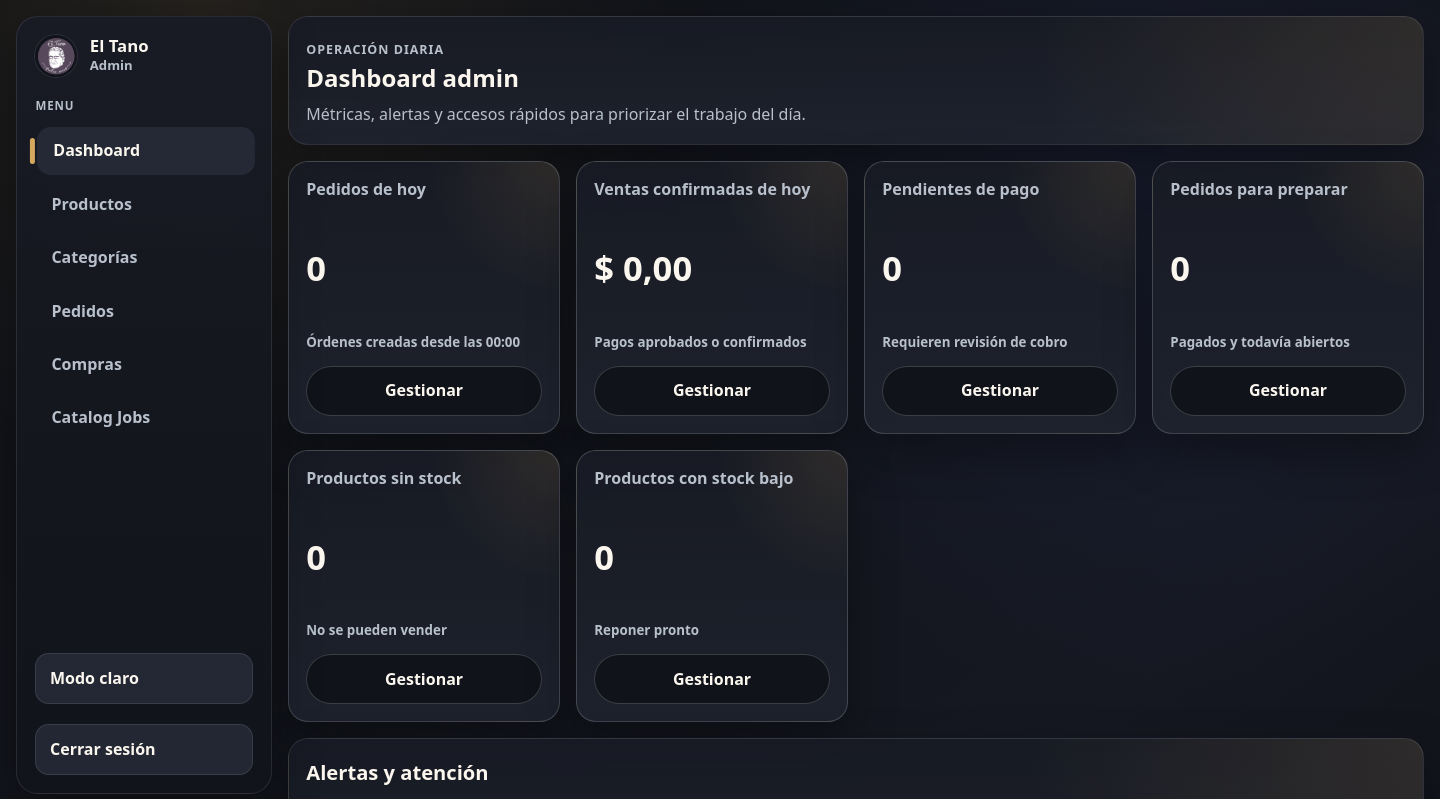
Test: AppRoutes admin nested routes › defaults the admin shell to dark mode and lets admins switch to light mode
The image size is (1440, 799).
Check: the heading "Dashboard admin" is shown, box [306,61,519,94]
Step 1. Click the button "Modo claro" → (144, 678), box [35,653,253,704]
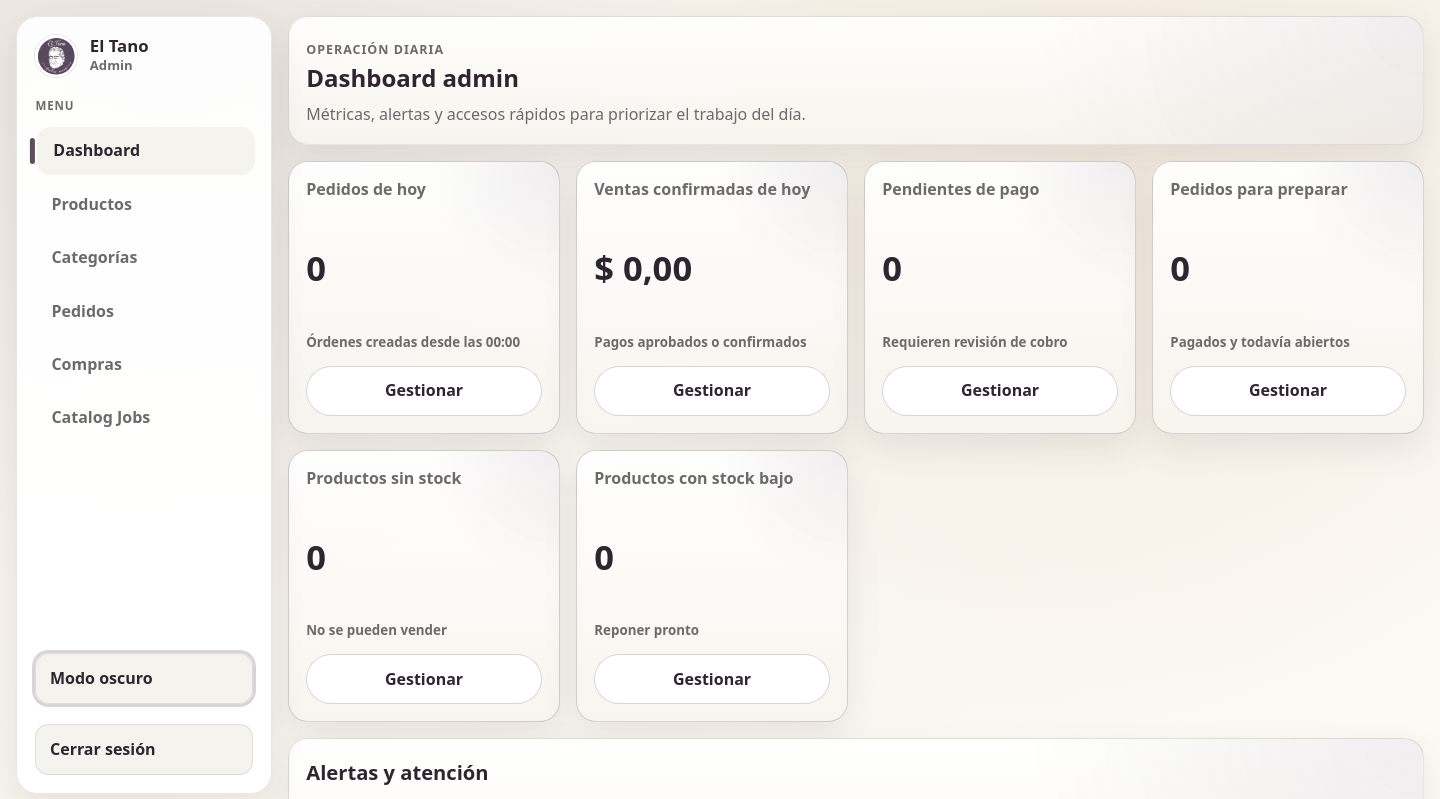
Check: the button "Modo oscuro" is shown, box [35,653,253,704]
